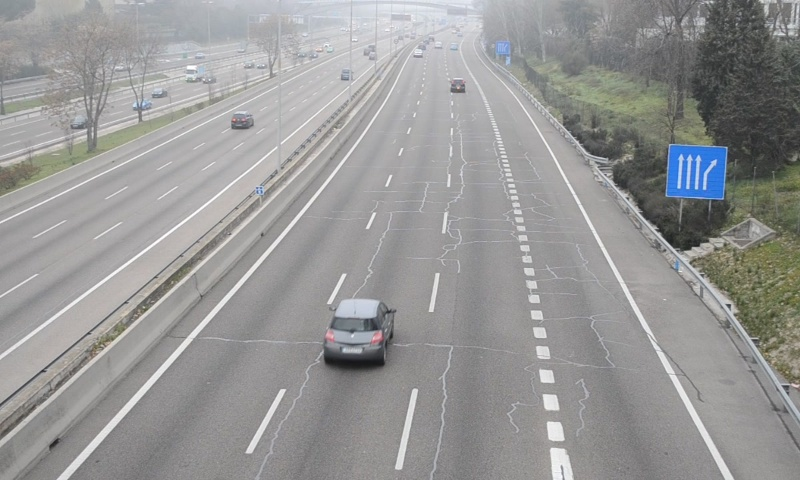car: (323, 299, 392, 362), (450, 76, 465, 92)
